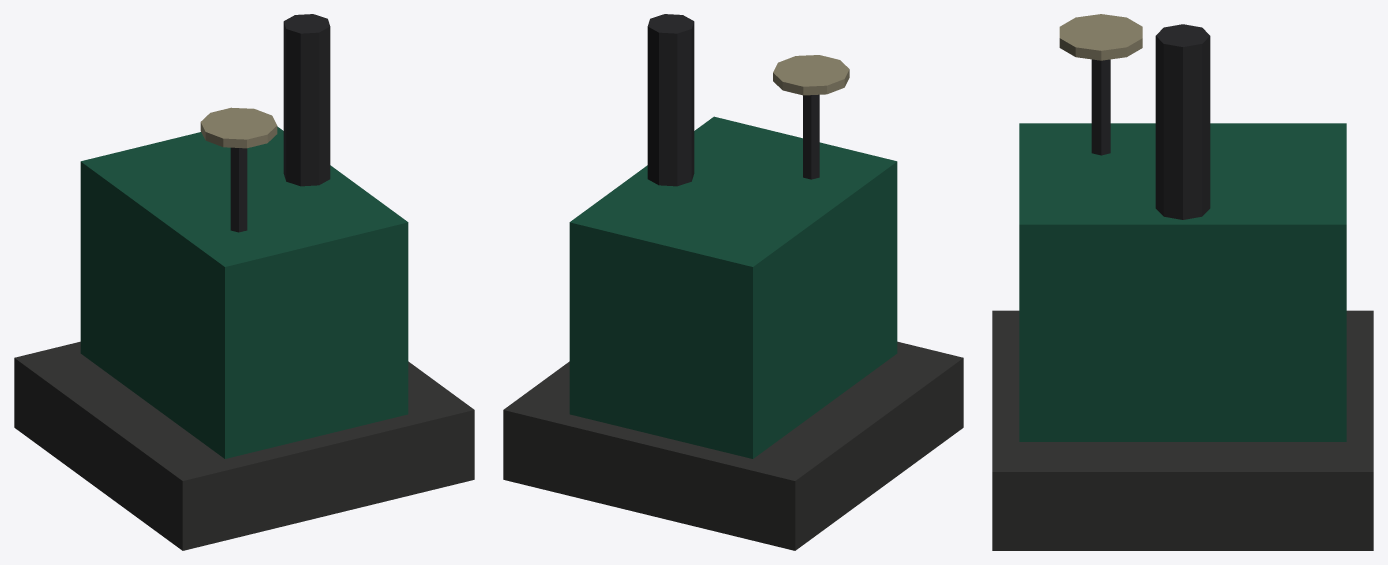
Rendered from pumpUnit.obj.
The picture shows the model from 3 angles, left to right: view 1: azimuth 30°, elevation 25°; view 2: azimuth 150°, elevation 25°; view 3: azimuth 270°, elevation 25°; orthographic projection. The views are drawn at different scales.
Bounding box in the file's own units: 0.7 × 0.95 × 0.7.
